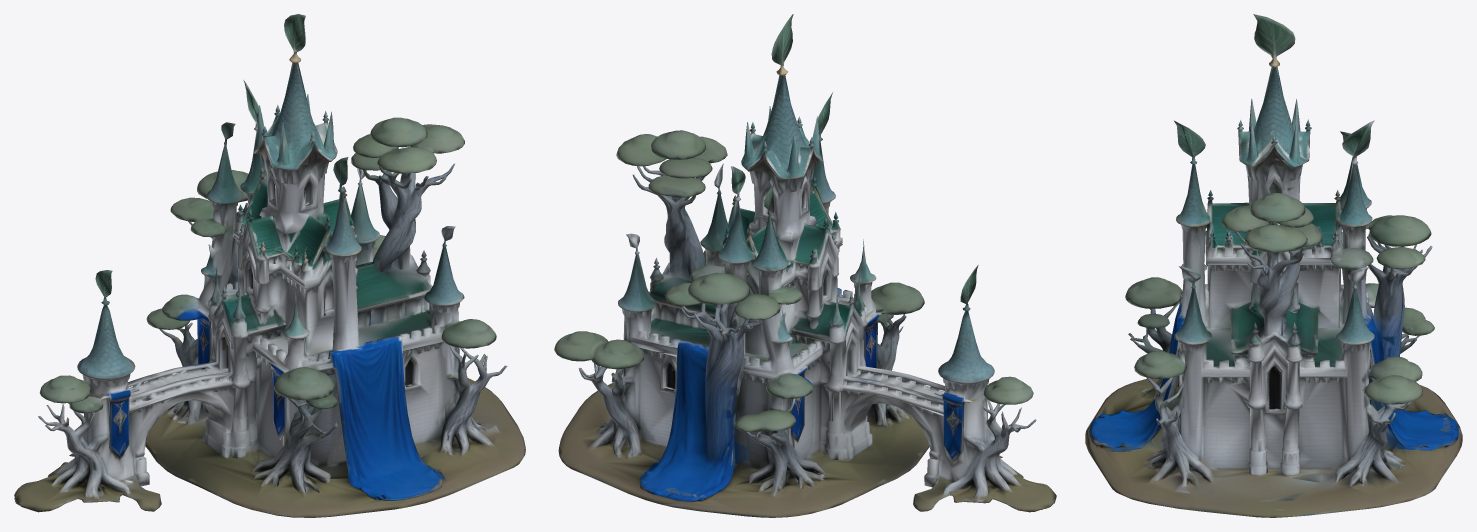
The model's file is elf_fort.glb.
3 renders of one model, left to right at view 1: azimuth 30°, elevation 25°; view 2: azimuth 150°, elevation 25°; view 3: azimuth 270°, elevation 25°, orthographic. The views are drawn at different scales.
Visible parts, largest first — view 1: node_0; view 2: node_0; view 3: node_0.
Boxes of the visible parts, bbox=[...] form: node_0: bbox=[14, 14, 525, 517]; node_0: bbox=[554, 14, 1056, 517]; node_0: bbox=[1085, 14, 1462, 517].
Size of the model in its own units: 0.9032 by 0.7878 by 0.6524.
1 material, 1 textured.
